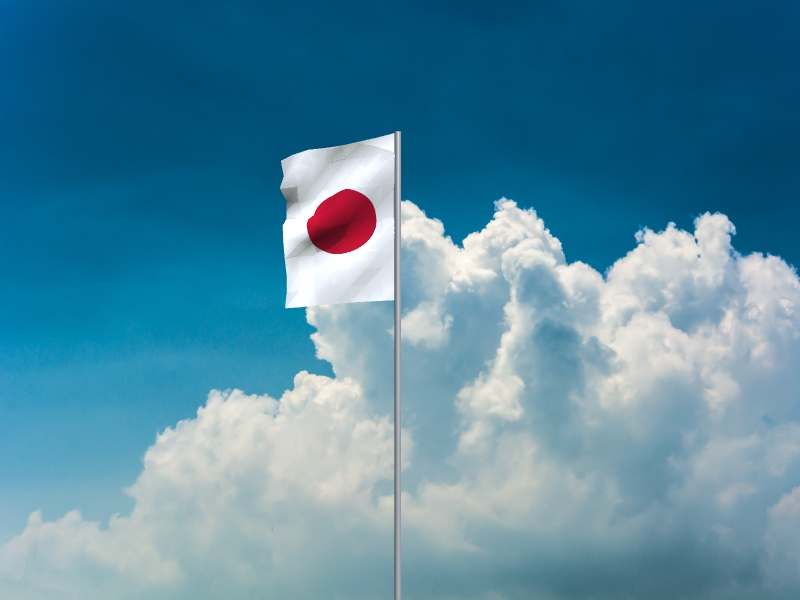jp: (280, 134, 395, 310)
